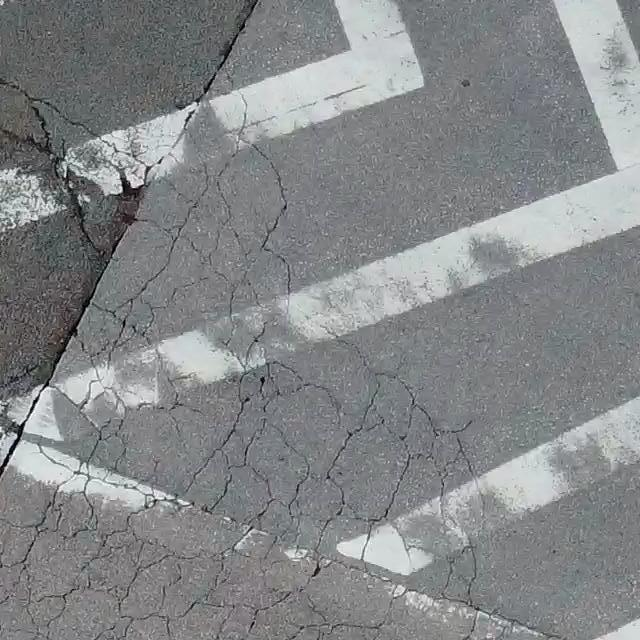GRIETA: (220, 0, 261, 60)
PIEL DE COCODRILO: (0, 60, 568, 639)
